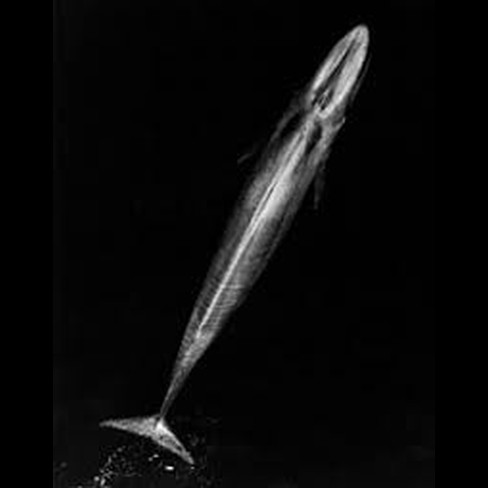bluewhale: (97, 20, 372, 468)
